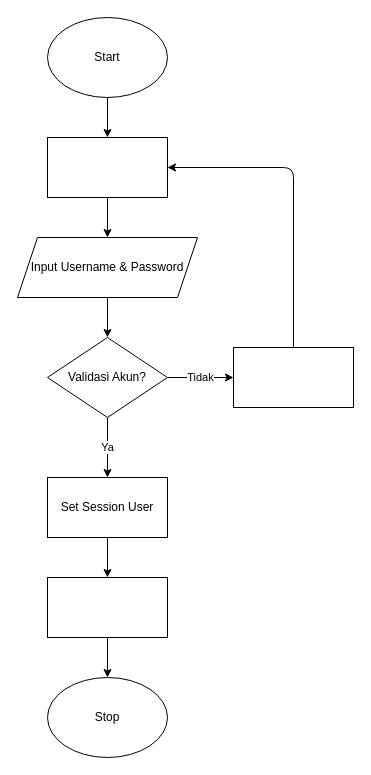
This 371x775 diagram has some shape labels left out. The centre of each missing label's shape, as x and y in pixels:
"Halaman Login" belongs at point 107,167.
"Pesan Error" belongs at point 293,377.
"Redirect ke Dashboard" belongs at point 107,607.
